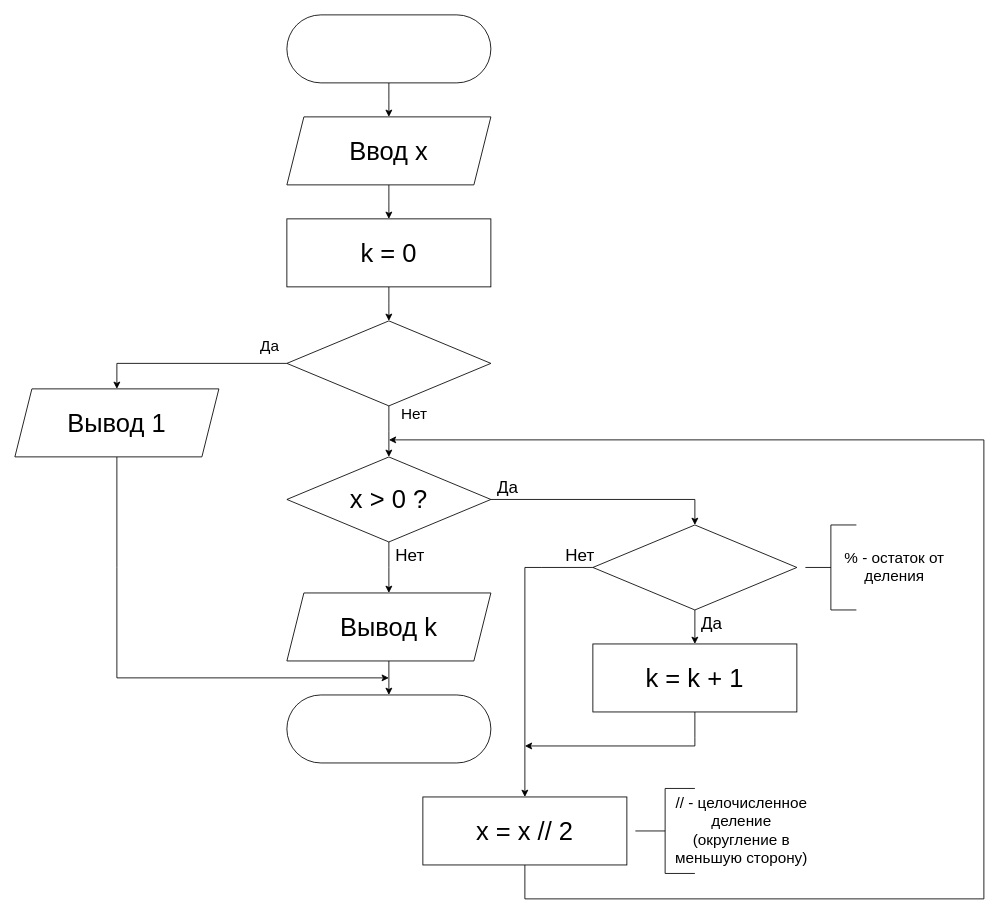
The diagram is 1006 pixels wide and 921 high, and some of its shapes have lost their labels. The shapes that lost their labels are listed below. From the top down, each one's box as (x1, y1, x2, y2) in pixels, then its label:
(286, 14, 491, 83): Начало
(286, 320, 491, 406): x = 0 ?
(592, 524, 797, 610): x % 2 = 0 ?
(286, 694, 491, 763): Конец
